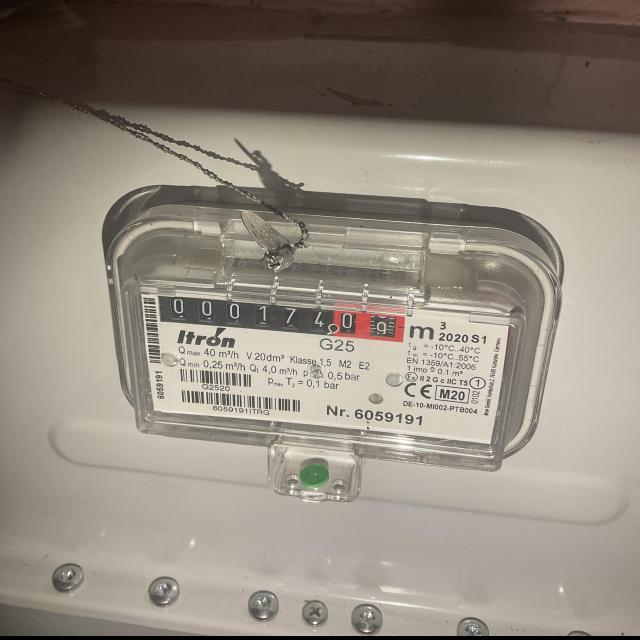gaz_meter: (137, 282, 500, 452)
indication: (168, 295, 405, 341)
